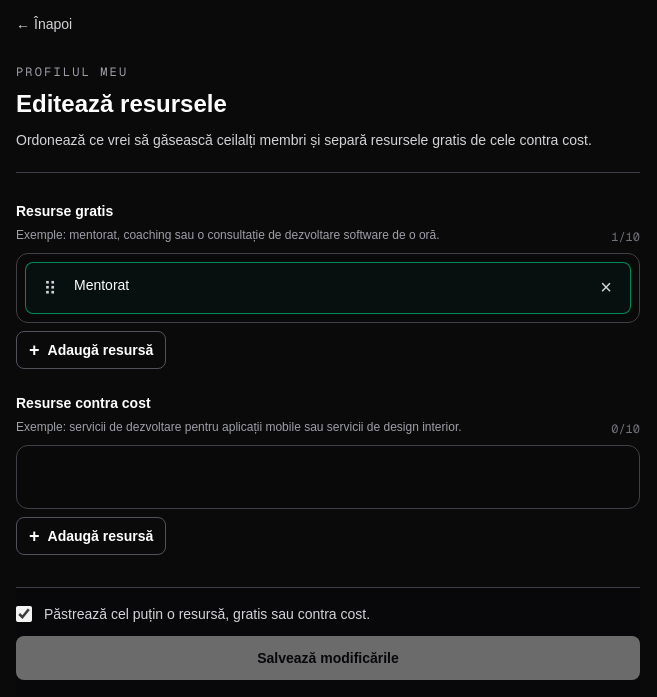
Test: ResourceMaintenanceForm › allows a temporarily empty draft but disables save and unchecks the checklist
The image size is (657, 697).
Click the button named "Elimină Mentorat" at (606, 287), box [590, 271, 622, 303]
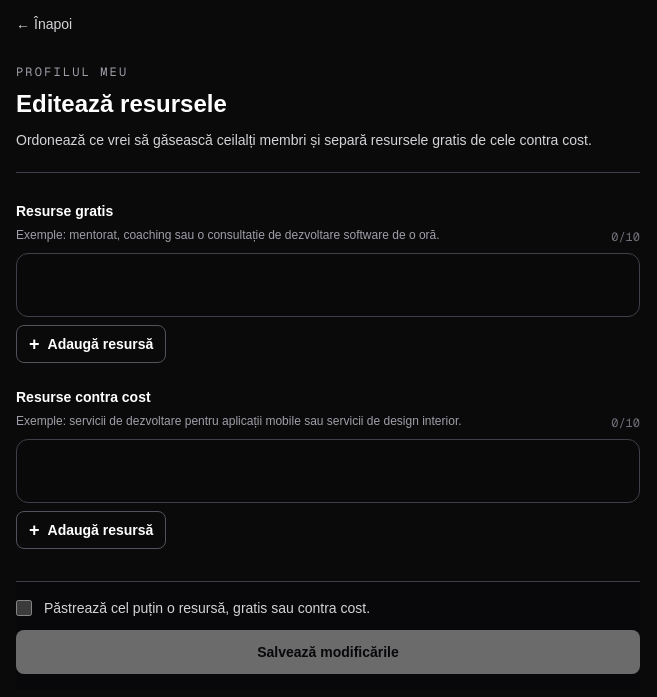
Check: the button "Salvează modificările" is disabled, box [16, 630, 640, 674]
Check: the checkbox is not checked, box [16, 600, 32, 616]
